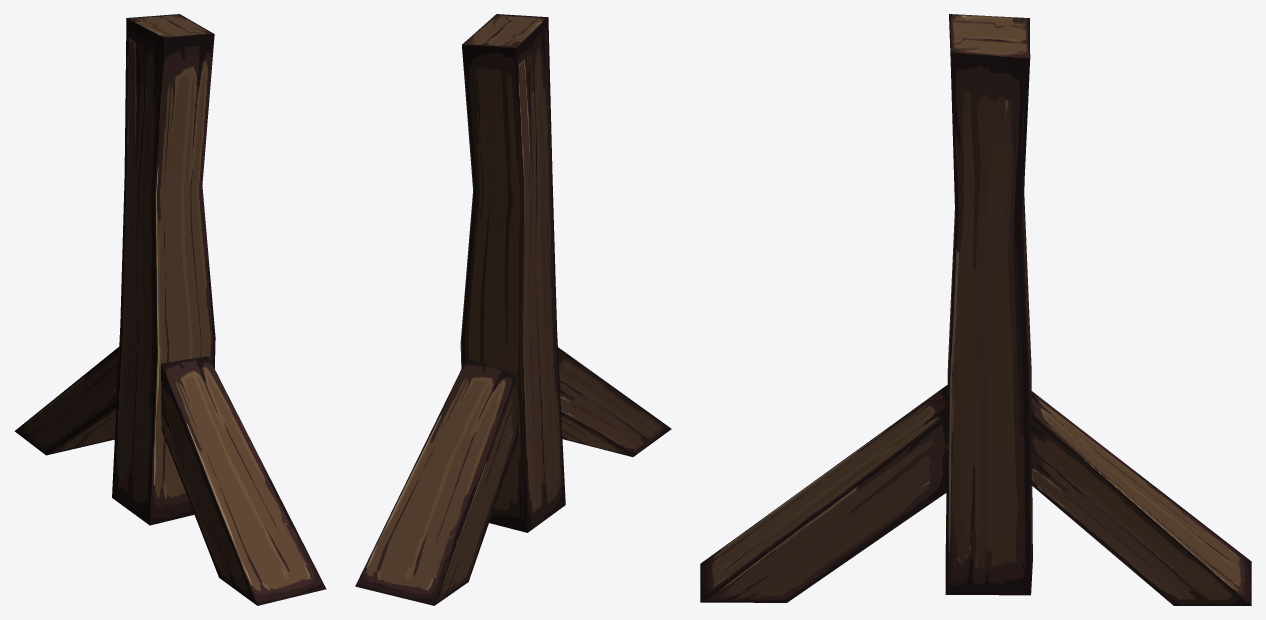
File: SM_PROP_waterwheel_construct_dungeon_01.fbx
3 renders of one model, left to right at view 1: azimuth 30°, elevation 25°; view 2: azimuth 150°, elevation 25°; view 3: azimuth 270°, elevation 25°, orthographic. The views are drawn at different scales.
Visible parts, largest first — view 1: SM_PROP_waterwheel_construct_dungeon_01; view 2: SM_PROP_waterwheel_construct_dungeon_01; view 3: SM_PROP_waterwheel_construct_dungeon_01.
Part boxes in pixels (left/top/right/bottom): SM_PROP_waterwheel_construct_dungeon_01: left=14, top=14, right=326, bottom=605; SM_PROP_waterwheel_construct_dungeon_01: left=355, top=14, right=671, bottom=605; SM_PROP_waterwheel_construct_dungeon_01: left=700, top=14, right=1251, bottom=605.
Bounding box in the file's own units: 63.45 × 367 × 329.
